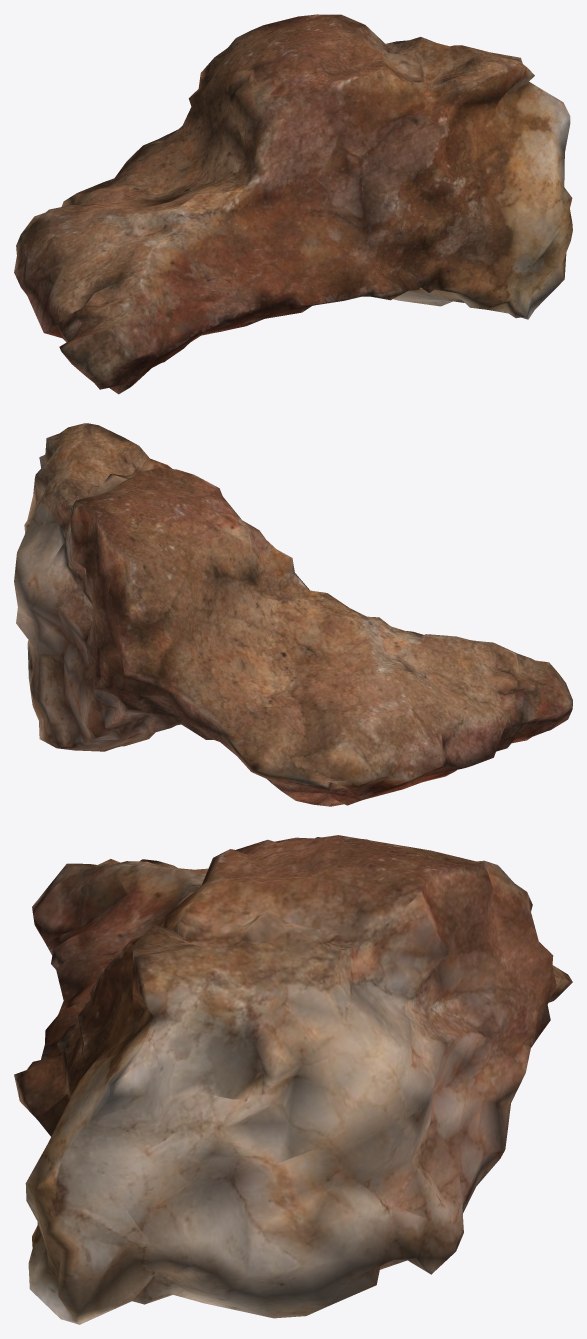
File: stone_01.glb
3 views of the same model, one above another, from view 1: azimuth 30°, elevation 25°; view 2: azimuth 150°, elevation 25°; view 3: azimuth 270°, elevation 25° (orthographic). The views are drawn at different scales.
Visible parts, largest first — view 1: stone_01; view 2: stone_01; view 3: stone_01.
Part boxes in pixels (bbox=[...]): stone_01: bbox=[14, 14, 572, 394]; stone_01: bbox=[14, 423, 572, 806]; stone_01: bbox=[14, 835, 572, 1324].
Bounding box in the file's own units: 0.1462 × 0.071 × 0.089.
1 material, 1 textured.
